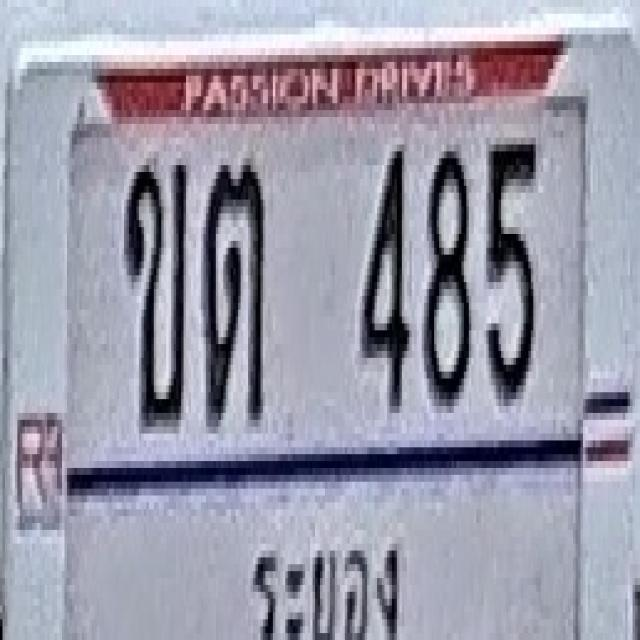4: (361, 141, 408, 403)
5: (486, 134, 536, 396)
8: (423, 141, 470, 403)
A02: (126, 155, 188, 423)
A21: (203, 158, 263, 420)
RYG: (244, 512, 407, 640)
